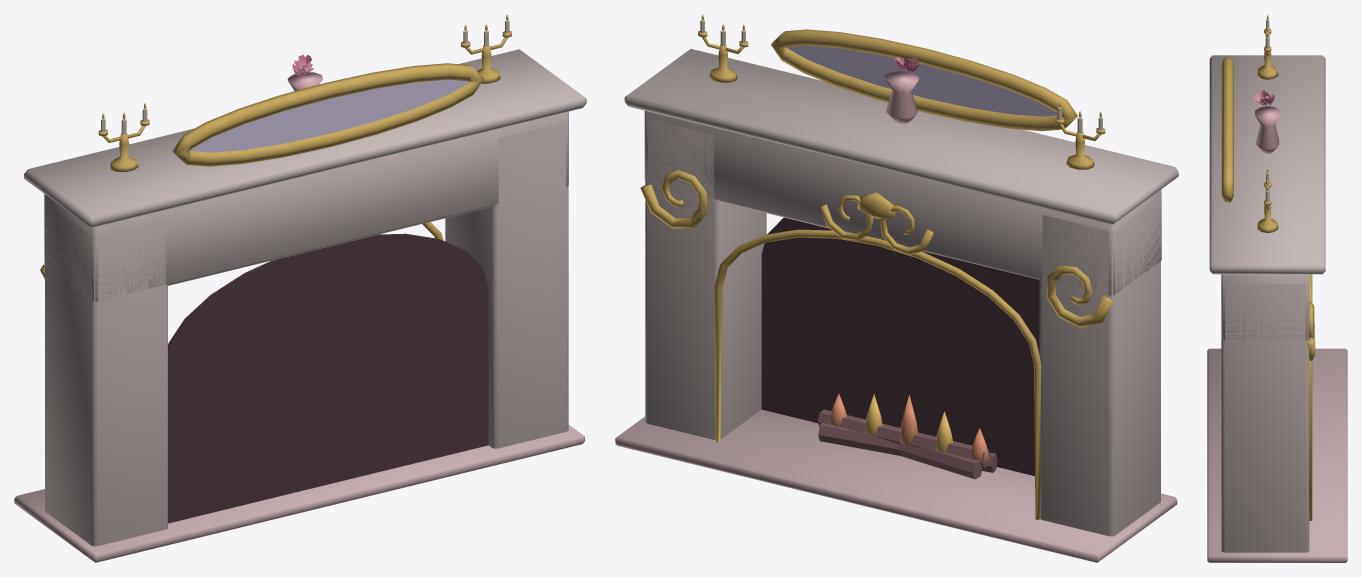
Rendered from fireplace_grand.glb.
3 views of the same model, side by side, from view 1: azimuth 30°, elevation 25°; view 2: azimuth 150°, elevation 25°; view 3: azimuth 270°, elevation 25° (orthographic). The views are drawn at different scales.
Parts seen in each view (by area): view 1: fireplace_grand; view 2: fireplace_grand; view 3: fireplace_grand.
Boxes of the visible parts, x1=… form: fireplace_grand: x1=14, y1=14, x2=586, y2=562; fireplace_grand: x1=615, y1=14, x2=1178, y2=562; fireplace_grand: x1=1207, y1=14, x2=1347, y2=562.
Size of what is drawn, in the model's own units: 3.2 by 2.6 by 0.9.
